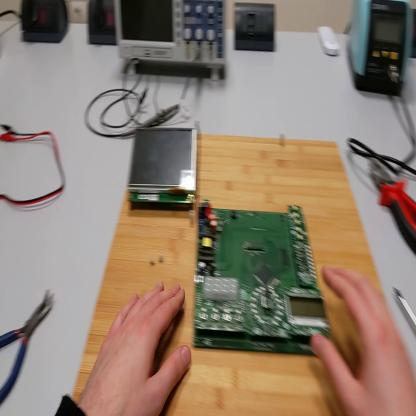hand: (312, 266, 416, 416), (78, 278, 191, 415)
low voltage board: (188, 199, 325, 353)
oscilloscope: (115, 1, 230, 78)
oscilloscope probe tip: (122, 106, 181, 138)
pliers: (2, 287, 52, 406), (372, 162, 416, 254)
screwdriver-: (393, 285, 416, 331)
socket: (21, 2, 71, 48), (86, 3, 117, 44), (410, 8, 416, 60)
welder station: (350, 3, 414, 98)
working area: (73, 134, 383, 416)
